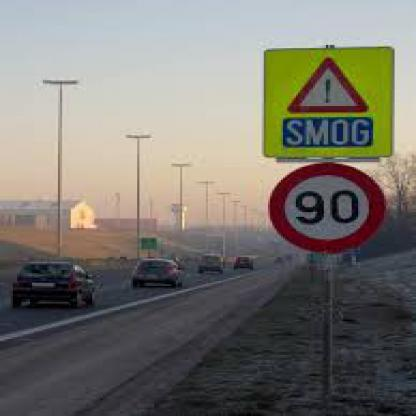Speed Limit 90: (273, 164, 382, 252)
